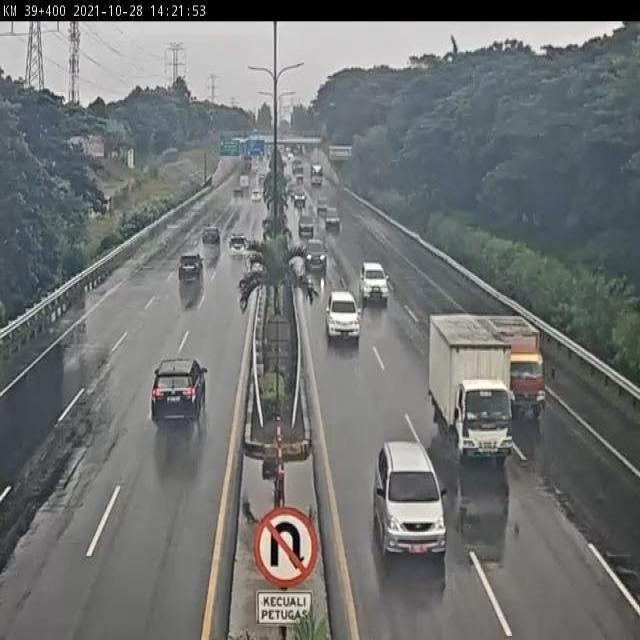Car: (372, 440, 447, 560), (150, 356, 208, 426), (325, 290, 361, 342), (359, 260, 389, 304), (303, 240, 330, 274), (178, 254, 204, 283), (325, 206, 341, 233), (292, 189, 306, 208), (251, 189, 262, 202), (296, 171, 304, 184)
Truck: (429, 318, 517, 456)
